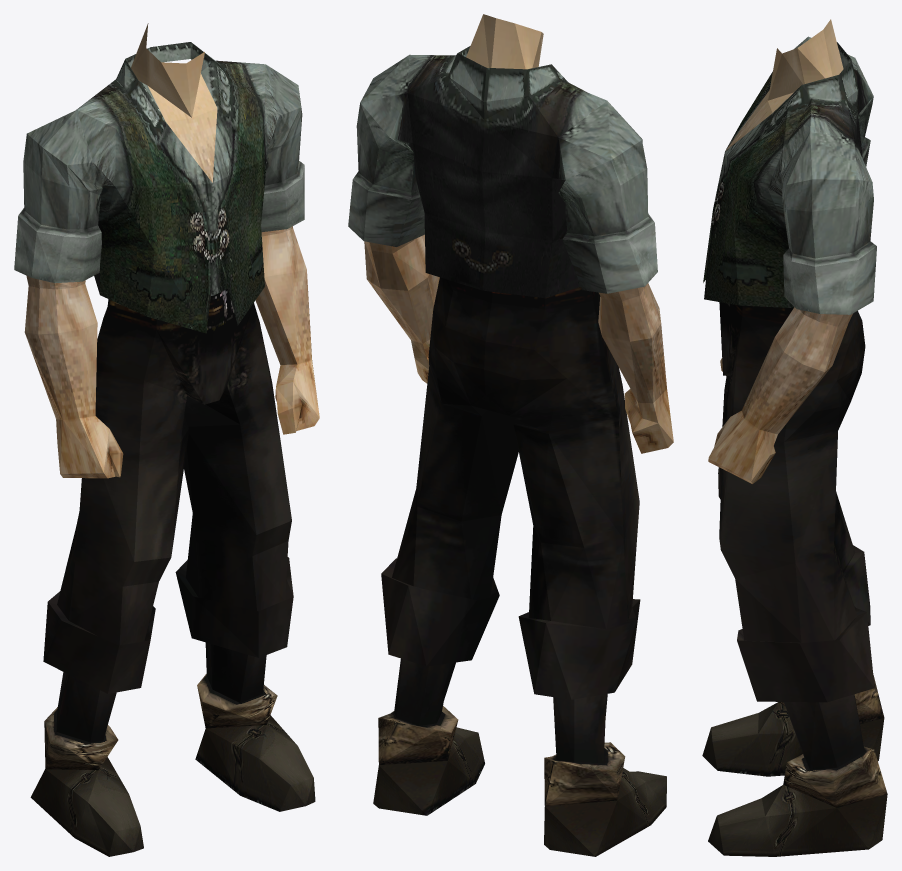
File: Armor_BAU_Lzm_Knecht.glb
3 renders of one model, left to right at view 1: azimuth 30°, elevation 25°; view 2: azimuth 150°, elevation 25°; view 3: azimuth 270°, elevation 25°, orthographic. The views are drawn at different scales.
Visible parts, largest first — view 1: Armor_BAU_Lzm_Knecht; view 2: Armor_BAU_Lzm_Knecht; view 3: Armor_BAU_Lzm_Knecht.
Boxes of the visible parts, <box> form: Armor_BAU_Lzm_Knecht: <box>14,23,319,856</box>; Armor_BAU_Lzm_Knecht: <box>348,14,673,856</box>; Armor_BAU_Lzm_Knecht: <box>702,19,887,856</box>.
Bounding box in the file's own units: 0.6415 × 1.69 × 0.3602.
2 materials, 2 textured.
